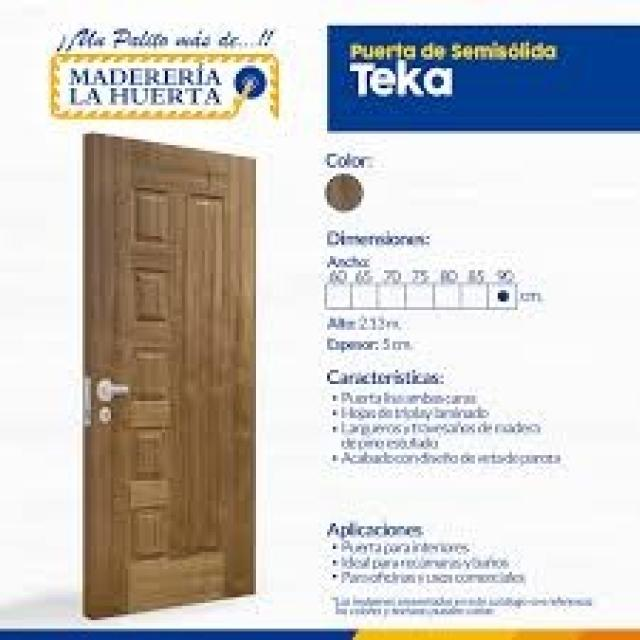door: (81, 131, 257, 620)
